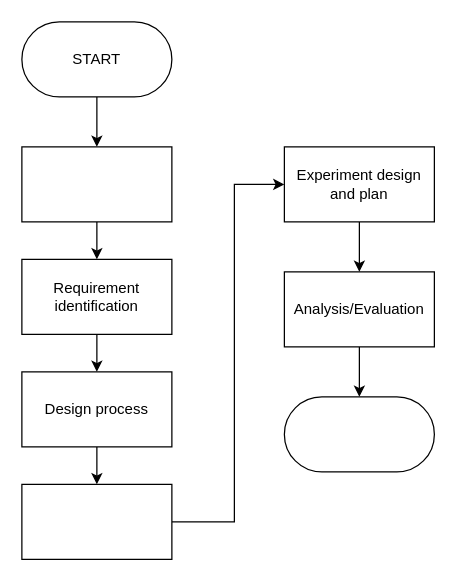
The diagram is 456 pixels wide and 581 high, and some of its shapes have lost their labels. Here are the shapes that lost their labels. From the top down, the centre of each, then its label:
pixel 96 184: Reference tracing
pixel 358 434: STOP
pixel 96 521: Implementation process
